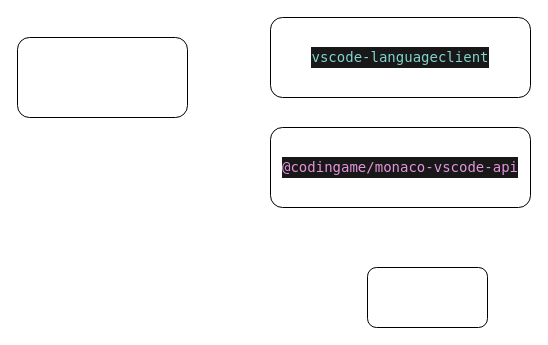
Some shapes in this 548 by 345 pixel diagram are drawn without their labels. Here are the shapes that lost their labels. From the top down, the box of each, then its label:
(16, 36, 188, 118): monaco-languageclient
(366, 266, 488, 328): pyright: lsp-server
